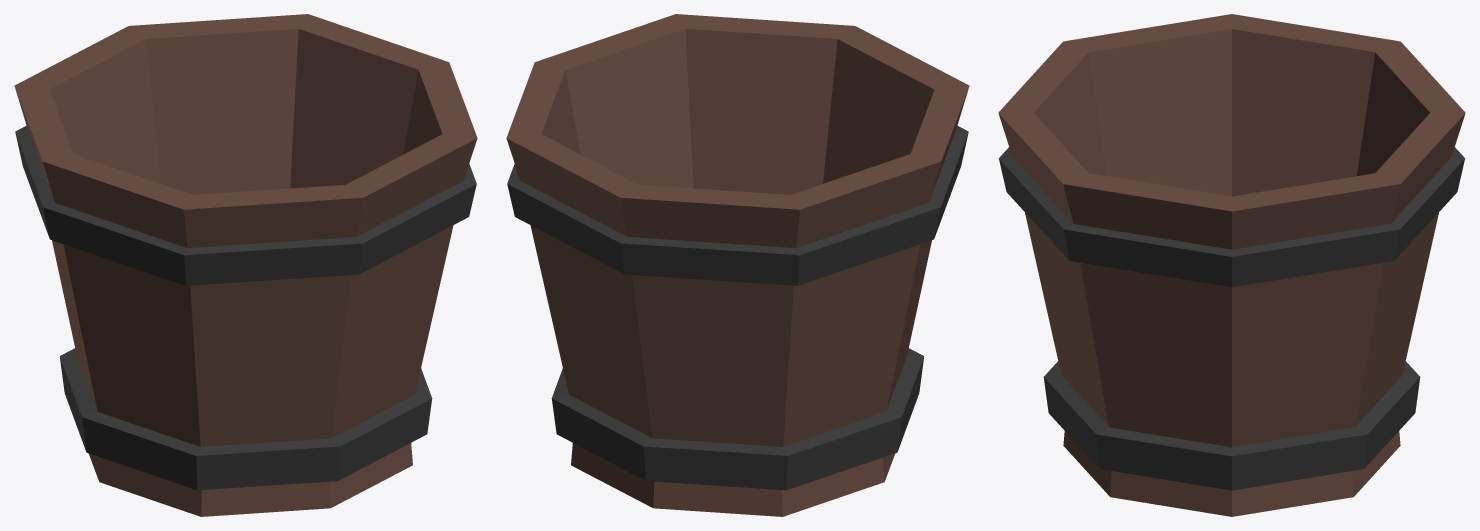
Rendered from Bucket.fbx.
3 views of the same model, side by side, from view 1: azimuth 30°, elevation 25°; view 2: azimuth 150°, elevation 25°; view 3: azimuth 270°, elevation 25° (orthographic).
Parts seen in each view (by area): view 1: Bucket; view 2: Bucket; view 3: Bucket.
Part boxes in pixels (x1,y1,x2,y2): Bucket: (14,14,477,516); Bucket: (506,14,969,516); Bucket: (998,14,1465,516).
Bounding box in the file's own units: 0.6045 × 0.4752 × 0.6045.
